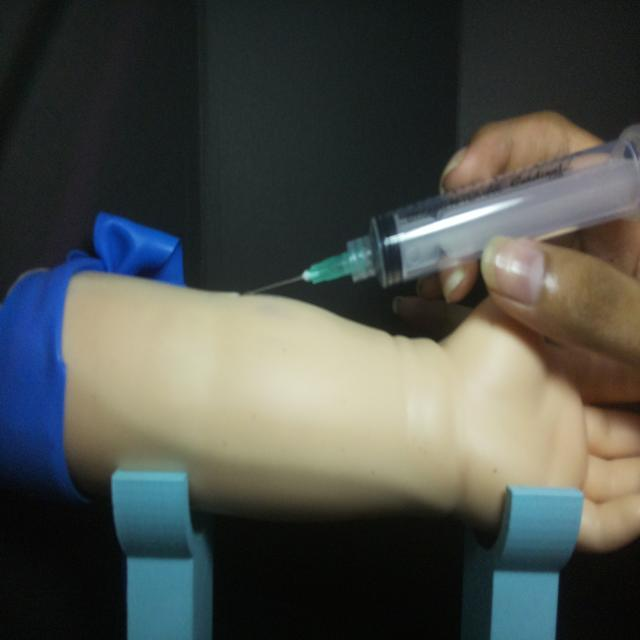19deg: (241, 125, 637, 301)
